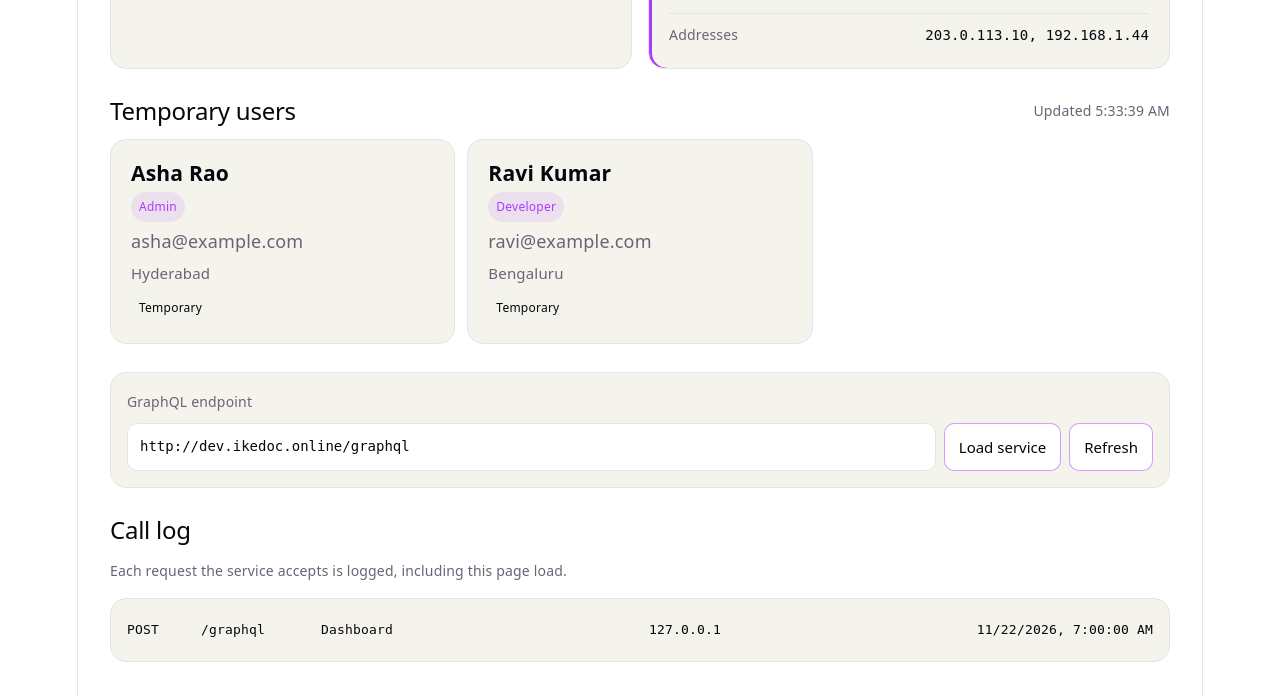
Test: App › refreshes the service public IP
The image size is (1280, 697).
(page scrolled)
Click the button "Refresh". click: (1111, 447)
box: [1069,423,1153,471]
(page scrolled)
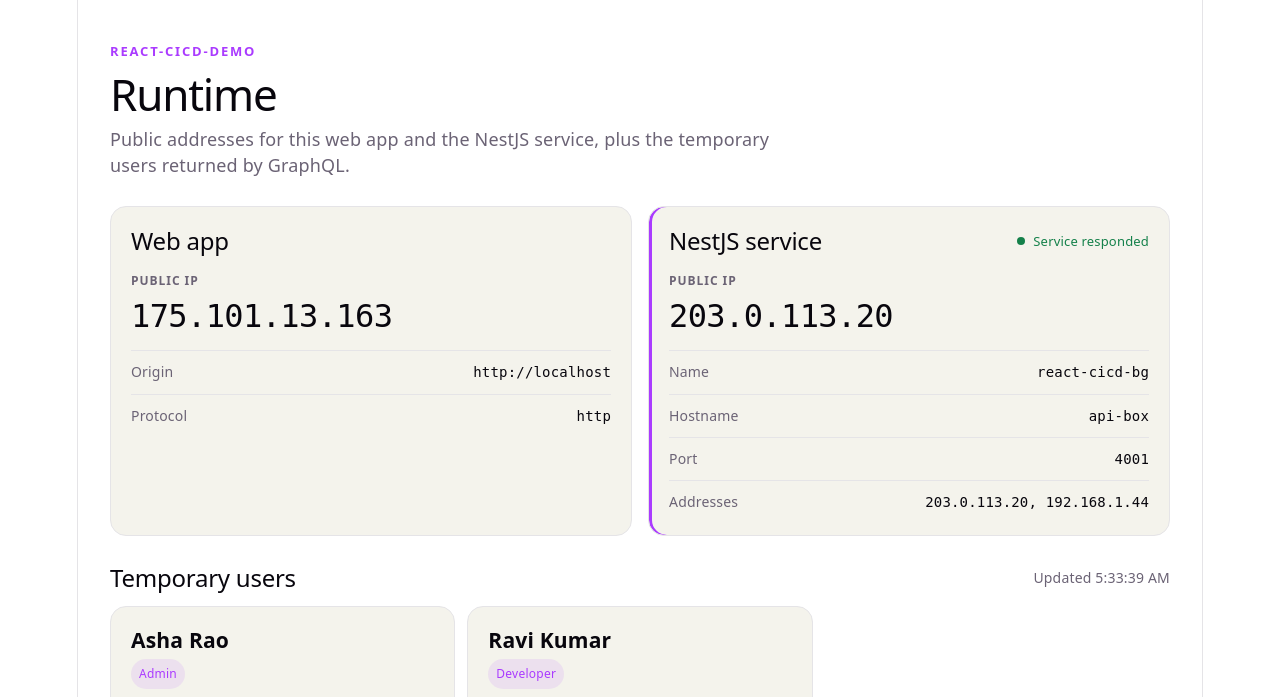
Result: the text with test id "service-ip" reads "203.0.113.20" at [669,297,893,335]
